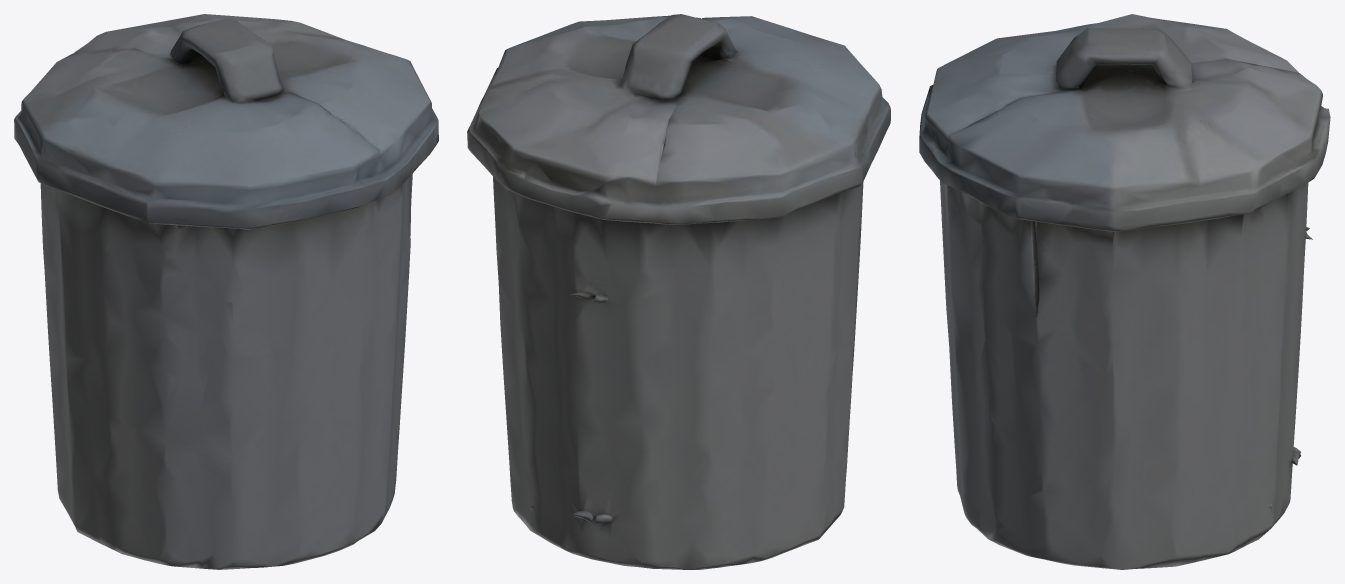
Rendered from trash-can.glb.
3 views of the same model, side by side, from view 1: azimuth 30°, elevation 25°; view 2: azimuth 150°, elevation 25°; view 3: azimuth 270°, elevation 25° (orthographic).
Visible parts, largest first — view 1: tripo_node_f4b1e3bd-dc4e-47ef-a68f-f3b9036c0228; view 2: tripo_node_f4b1e3bd-dc4e-47ef-a68f-f3b9036c0228; view 3: tripo_node_f4b1e3bd-dc4e-47ef-a68f-f3b9036c0228.
Part boxes in pixels (x1,y1,x2,y2): tripo_node_f4b1e3bd-dc4e-47ef-a68f-f3b9036c0228: (14,14,438,569); tripo_node_f4b1e3bd-dc4e-47ef-a68f-f3b9036c0228: (467,14,890,569); tripo_node_f4b1e3bd-dc4e-47ef-a68f-f3b9036c0228: (919,14,1330,569).
Size of the model in its own units: 0.8323 by 1 by 0.803.
Materials: 1 (1 with a texture image).
